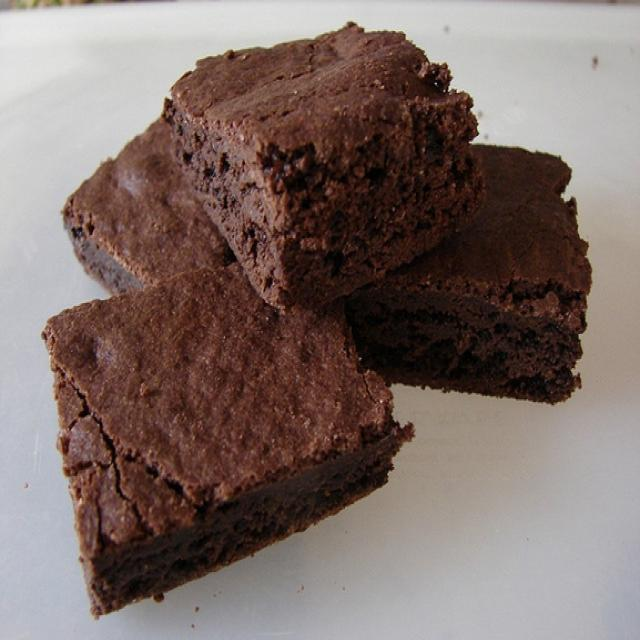蛋糕甜品: (25, 26, 616, 598)
